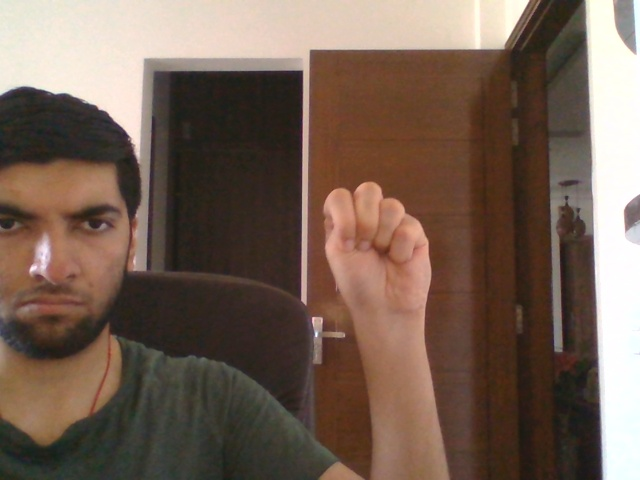LetterM: (322, 182, 432, 318)
